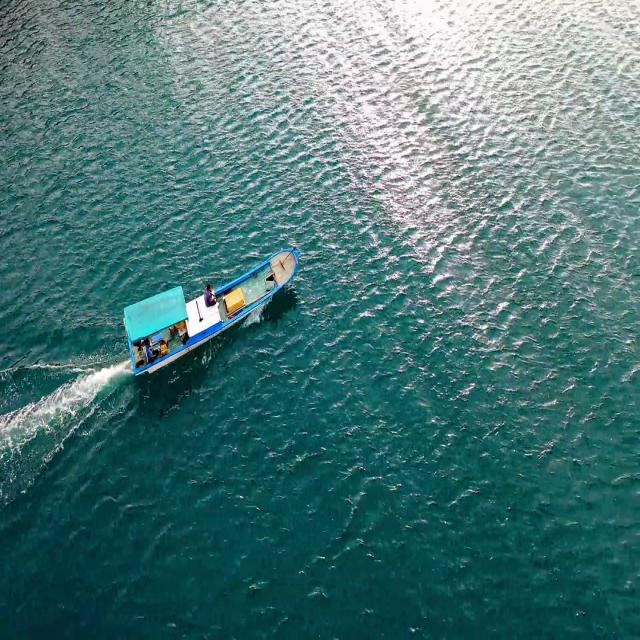ship: (115, 238, 302, 382)
